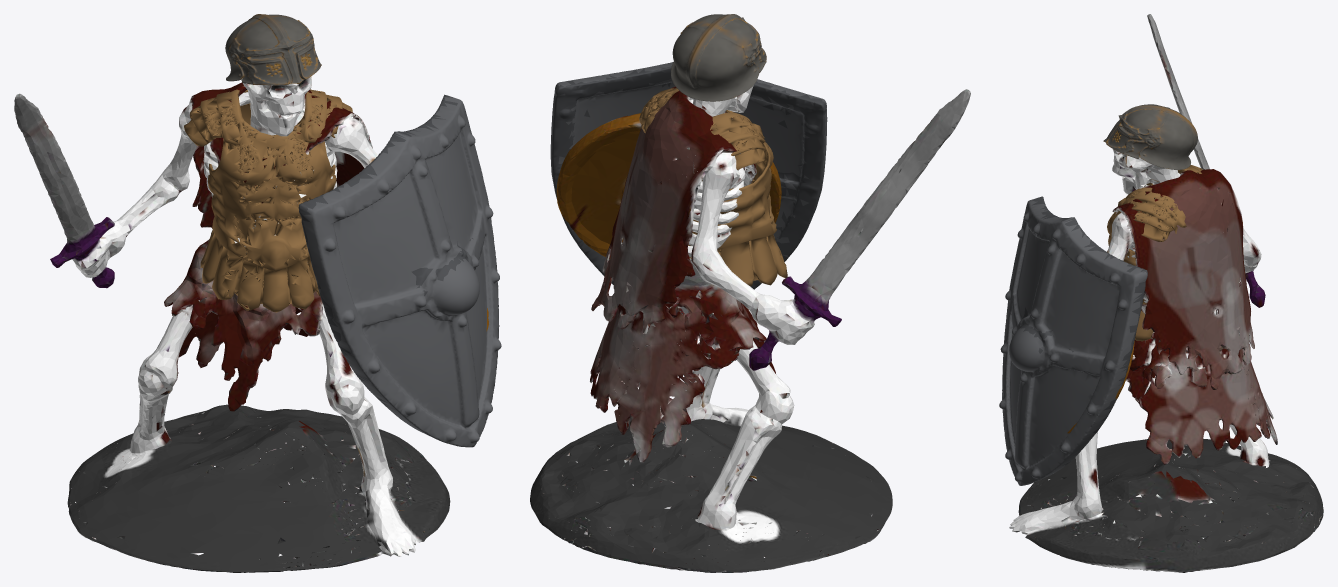
The model's file is esqueleto_armadurado.glb.
The picture shows the model from 3 angles, left to right: view 1: azimuth 30°, elevation 25°; view 2: azimuth 150°, elevation 25°; view 3: azimuth 270°, elevation 25°; orthographic projection. The views are drawn at different scales.
Parts seen in each view (by area): view 1: tmpqn8_akp3.ply, tmpbenr_y5z.ply, tmp51ftxfg4.ply, tmpl4f4wbxn.ply; view 2: tmpqn8_akp3.ply, tmpbenr_y5z.ply, tmp51ftxfg4.ply, tmpl4f4wbxn.ply; view 3: tmpqn8_akp3.ply, tmpbenr_y5z.ply, tmpl4f4wbxn.ply, tmp51ftxfg4.ply.
Part boxes in pixels (x1,y1,x2,y2): tmpqn8_akp3.ply: (14,76,488,572); tmpbenr_y5z.ply: (298,94,501,447); tmp51ftxfg4.ply: (184,89,352,312); tmpl4f4wbxn.ply: (225,14,321,85); tmpqn8_akp3.ply: (530,85,970,572); tmpbenr_y5z.ply: (550,62,827,289); tmp51ftxfg4.ply: (639,87,787,286); tmpl4f4wbxn.ply: (670,14,766,101); tmpqn8_akp3.ply: (1009,14,1323,572); tmpbenr_y5z.ply: (999,196,1147,485); tmpl4f4wbxn.ply: (1103,104,1197,169); tmp51ftxfg4.ply: (1107,165,1202,341).
Bounding box in the file's own units: 1.96 × 2.01 × 1.47.
5 materials, 1 textured.
